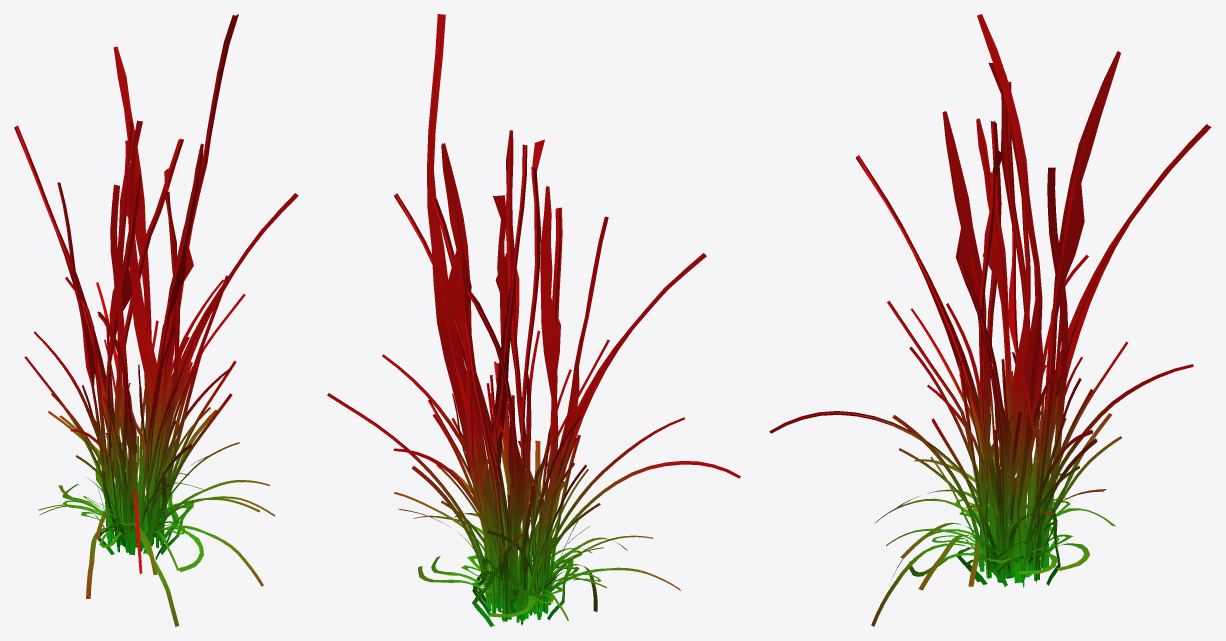
The model's file is smdrailr_Var5_LOD0.fbx.
3 views of the same model, side by side, from view 1: azimuth 30°, elevation 25°; view 2: azimuth 150°, elevation 25°; view 3: azimuth 270°, elevation 25° (orthographic). The views are drawn at different scales.
Visible parts, largest first — view 1: _194c_Var5_LOD0; view 2: _194c_Var5_LOD0; view 3: _194c_Var5_LOD0.
Part boxes in pixels (bbox=[...]): _194c_Var5_LOD0: bbox=[14, 14, 298, 626]; _194c_Var5_LOD0: bbox=[327, 14, 740, 626]; _194c_Var5_LOD0: bbox=[769, 14, 1211, 626].
Size of the model in its own units: 46.27 by 97.52 by 60.17.
